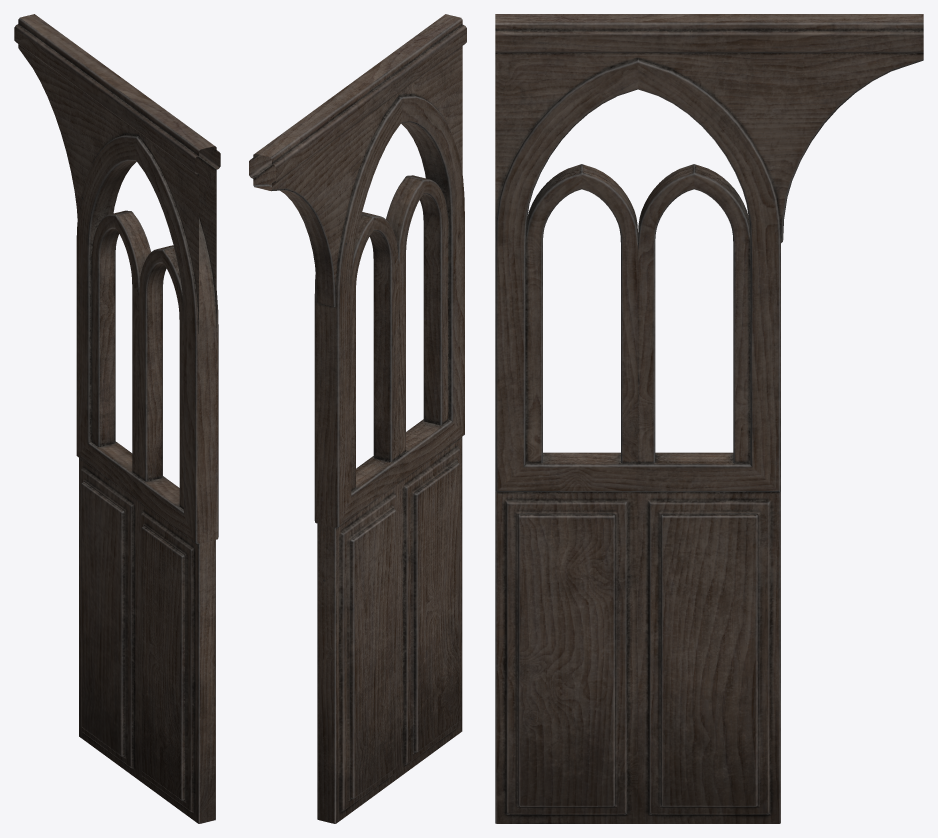
Rendered from SM_ChurchDividerA.fbx.
3 renders of one model, left to right at view 1: azimuth 30°, elevation 25°; view 2: azimuth 150°, elevation 25°; view 3: azimuth 270°, elevation 25°, orthographic. The views are drawn at different scales.
Parts seen in each view (by area): view 1: SM_ChurchDividerA_LOD0; view 2: SM_ChurchDividerA_LOD0; view 3: SM_ChurchDividerA_LOD0.
Part boxes in pixels (left/top/right/bottom): SM_ChurchDividerA_LOD0: left=14, top=14, right=220, bottom=823; SM_ChurchDividerA_LOD0: left=249, top=14, right=466, bottom=823; SM_ChurchDividerA_LOD0: left=495, top=14, right=923, bottom=823.
Bounding box in the file's own units: 20.81 × 198 × 408.
Materials: 1 (1 with a texture image).
